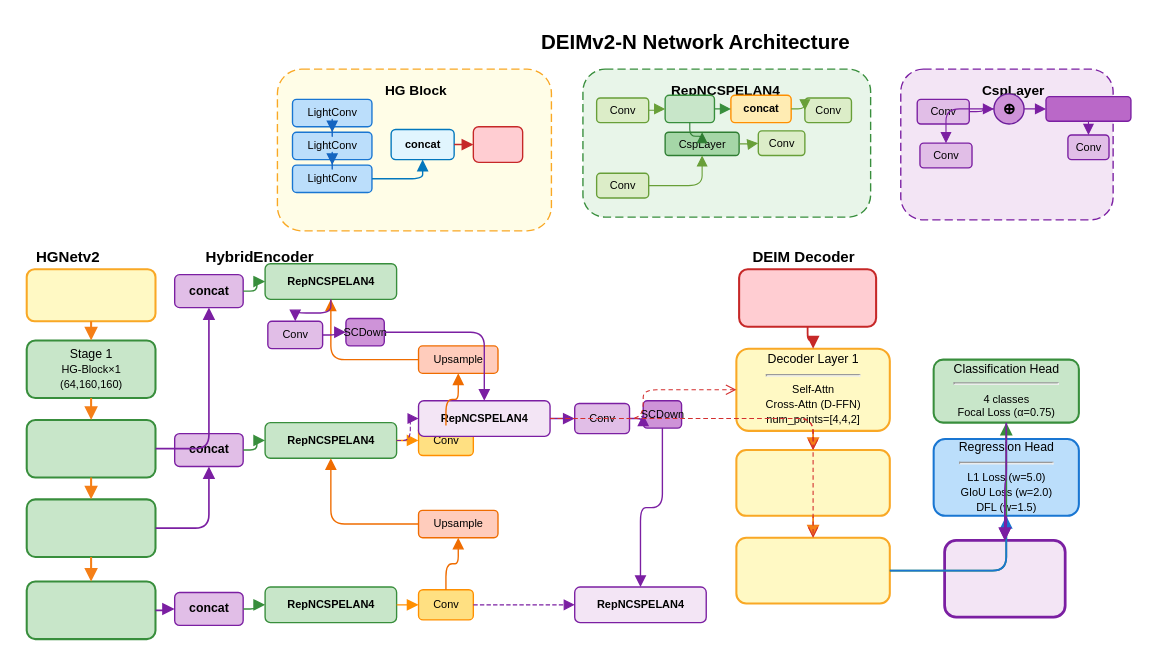
This 1155x663 diagram has some shape labels left out. The box of each missing label's shape, as (x1, y1, x2, y2) in pixels:
Decoder Layer 2 Self-Attn + Cross-Attn D-FFN (512 dim): (735, 448, 890, 516)
Decoder Layer 3 Self-Attn + Cross-Attn D-FFN + Output: (735, 536, 890, 604)
Output Labels: (B, N) Boxes: (B, N, 4) Scores: (B, N): (943, 538, 1066, 618)
Query Embedding 300 queries learnable pos: (737, 268, 877, 327)
SE: (472, 125, 523, 162)
split: (664, 94, 714, 123)
Stage 2 HG-Block×1 (256,80,80): (25, 418, 156, 478)
Stage 3 HG-Block×2 (512,40,40): (25, 498, 156, 557)
Stage 4 HG-Block×1 (1024,20,20): (25, 580, 156, 640)
Stem Block Conv 3×3 (3→16→16): (25, 268, 156, 322)
VGGBlock×3: (1045, 95, 1131, 121)
